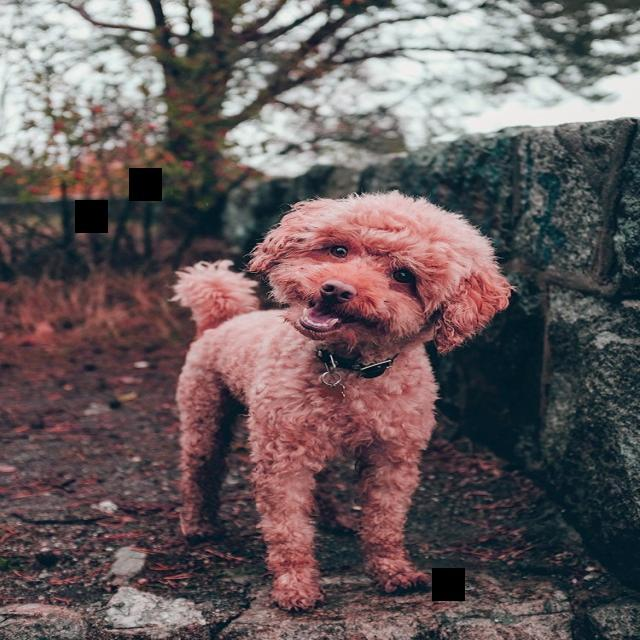adult_dog: (170, 190, 515, 614)
